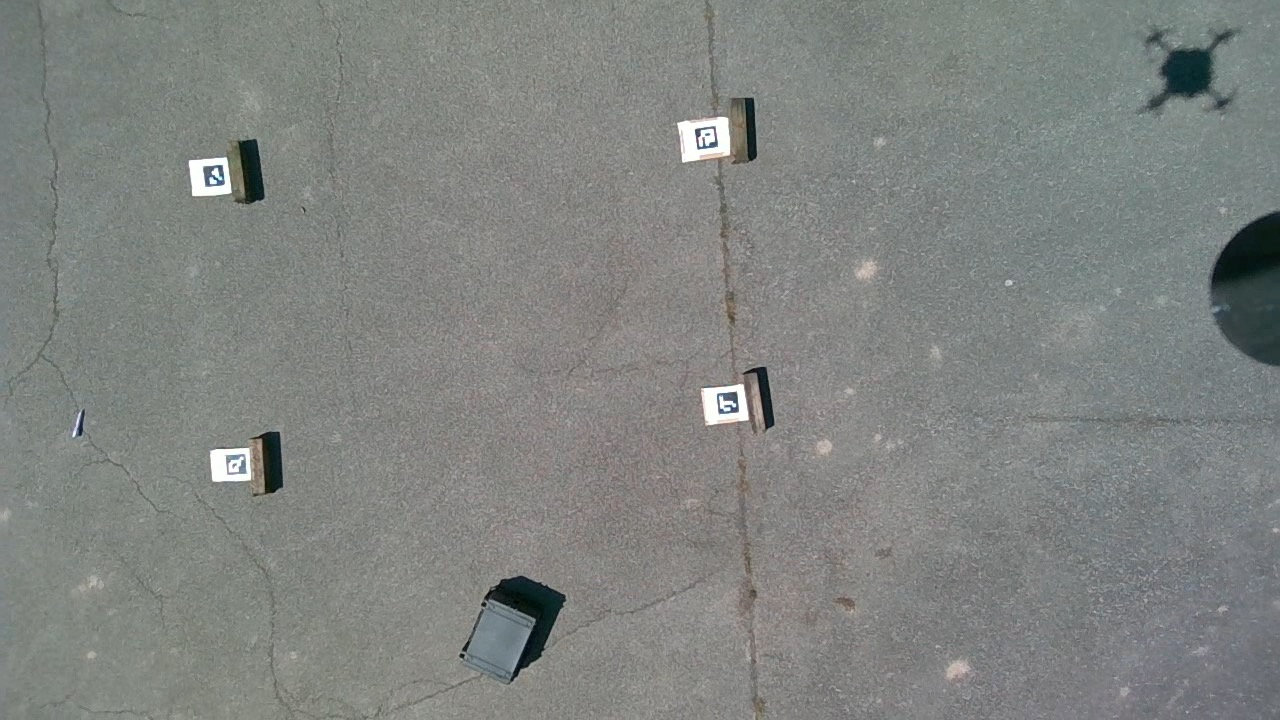probes: (71, 409, 83, 437)
rako: (460, 586, 540, 683)
